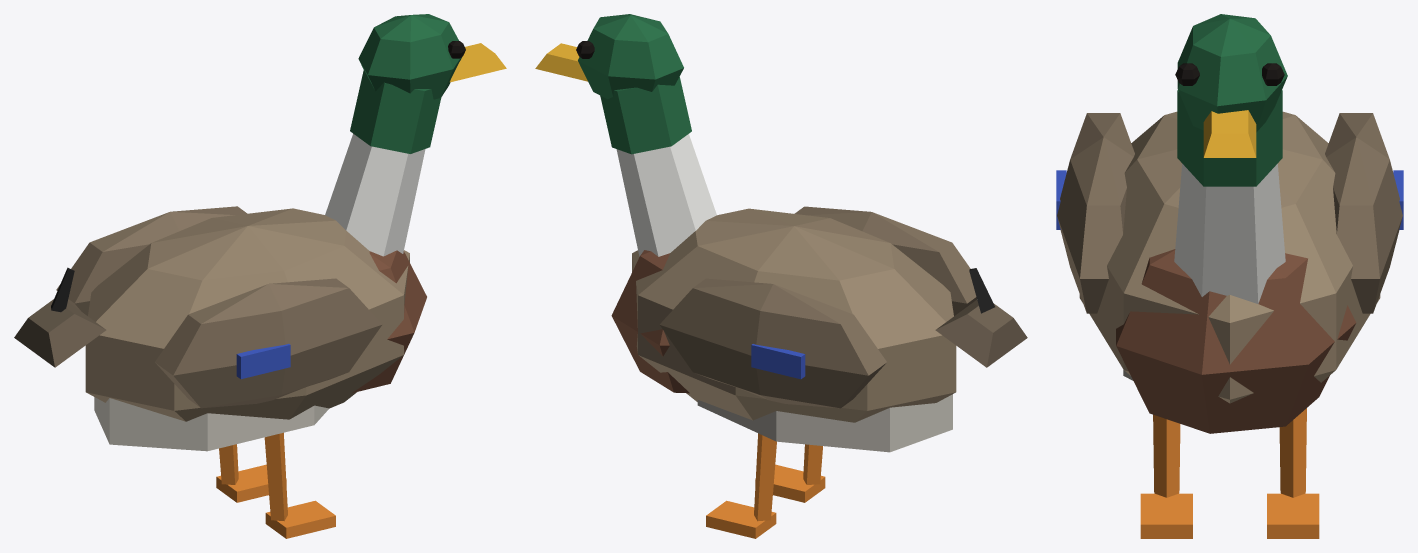
File: duck.glb
3 renders of one model, left to right at view 1: azimuth 30°, elevation 25°; view 2: azimuth 150°, elevation 25°; view 3: azimuth 270°, elevation 25°, orthographic. The views are drawn at different scales.
Parts seen in each view (by area): view 1: body, head, tail, leg_r, leg_l; view 2: body, head, tail, leg_l, leg_r; view 3: body, head, leg_r, leg_l.
Boxes of the visible parts, <box> form: body: <box>56,133,426,451</box>; head: <box>350,14,506,153</box>; tail: <box>14,267,106,367</box>; leg_r: <box>264,432,335,538</box>; leg_l: <box>216,444,286,502</box>; body: <box>611,134,976,452</box>; head: <box>535,14,691,154</box>; tail: <box>935,268,1027,367</box>; leg_l: <box>706,433,776,538</box>; leg_r: <box>755,444,825,502</box>; body: <box>1056,111,1403,433</box>; head: <box>1175,14,1287,186</box>; leg_r: <box>1140,414,1192,538</box>; leg_l: <box>1267,408,1319,538</box>.
Size of the model in its own units: 0.6499 by 0.6175 by 0.33.
